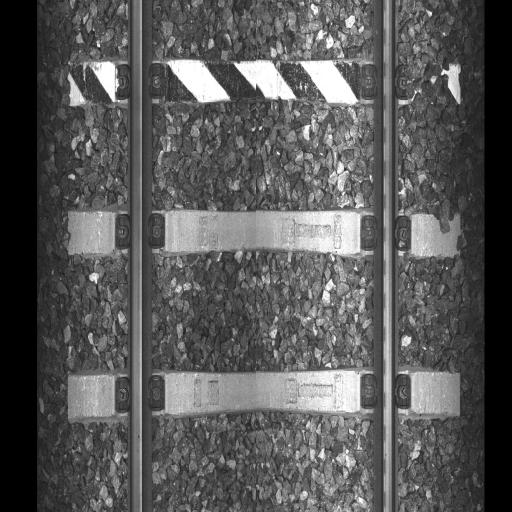sleeper: (66, 56, 460, 118), (67, 207, 462, 262), (65, 370, 461, 417)
